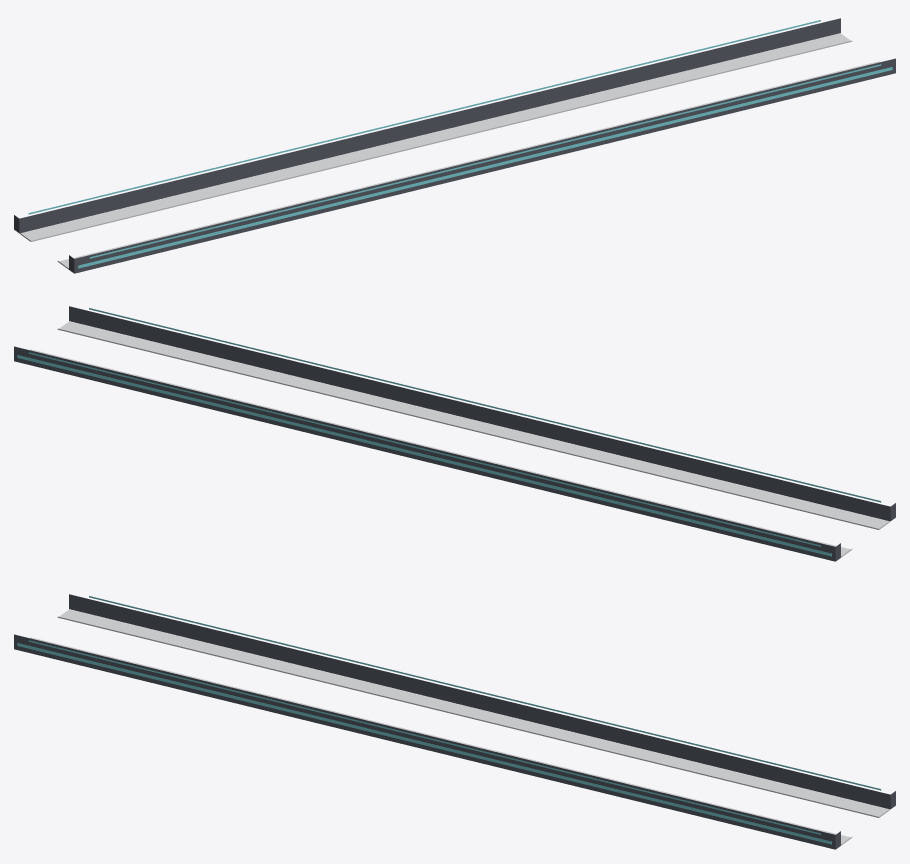
The model's file is ext_maglev_magnet_module_05.glb.
3 renders of one model, top to bottom at view 1: azimuth 30°, elevation 25°; view 2: azimuth 150°, elevation 25°; view 3: azimuth 330°, elevation 25°, orthographic.
Parts seen in each view (by area): view 1: Magnet_Arms, Lev_Magnets, Lev_Glow; view 2: Magnet_Arms, Lev_Magnets, Lev_Glow; view 3: Magnet_Arms, Lev_Magnets, Lev_Glow.
Boxes of the visible parts, box(x1,y1,x2,y2) form: Magnet_Arms: box(14, 18, 895, 273); Lev_Magnets: box(19, 33, 879, 269); Lev_Glow: box(28, 20, 892, 268); Magnet_Arms: box(14, 306, 895, 561); Lev_Magnets: box(30, 321, 890, 557); Lev_Glow: box(17, 308, 881, 556); Magnet_Arms: box(14, 594, 895, 849); Lev_Magnets: box(30, 609, 890, 845); Lev_Glow: box(17, 596, 881, 844).
Bounding box in the file's own units: 11 × 0.194 × 1.41.
